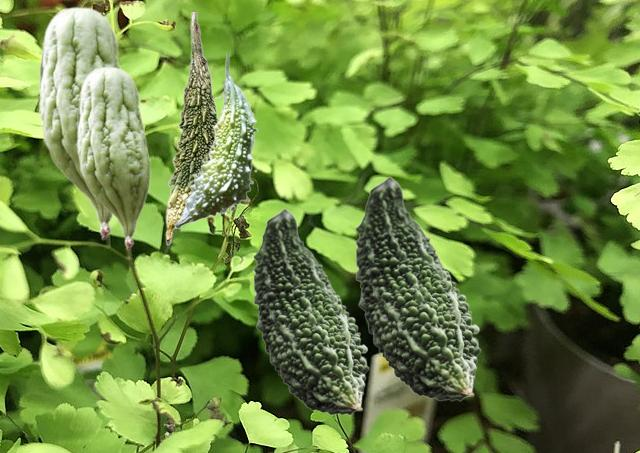ampalaya: (355, 176, 480, 400), (253, 208, 368, 414), (38, 6, 122, 239), (174, 54, 257, 228), (76, 66, 150, 249), (165, 12, 219, 245)
